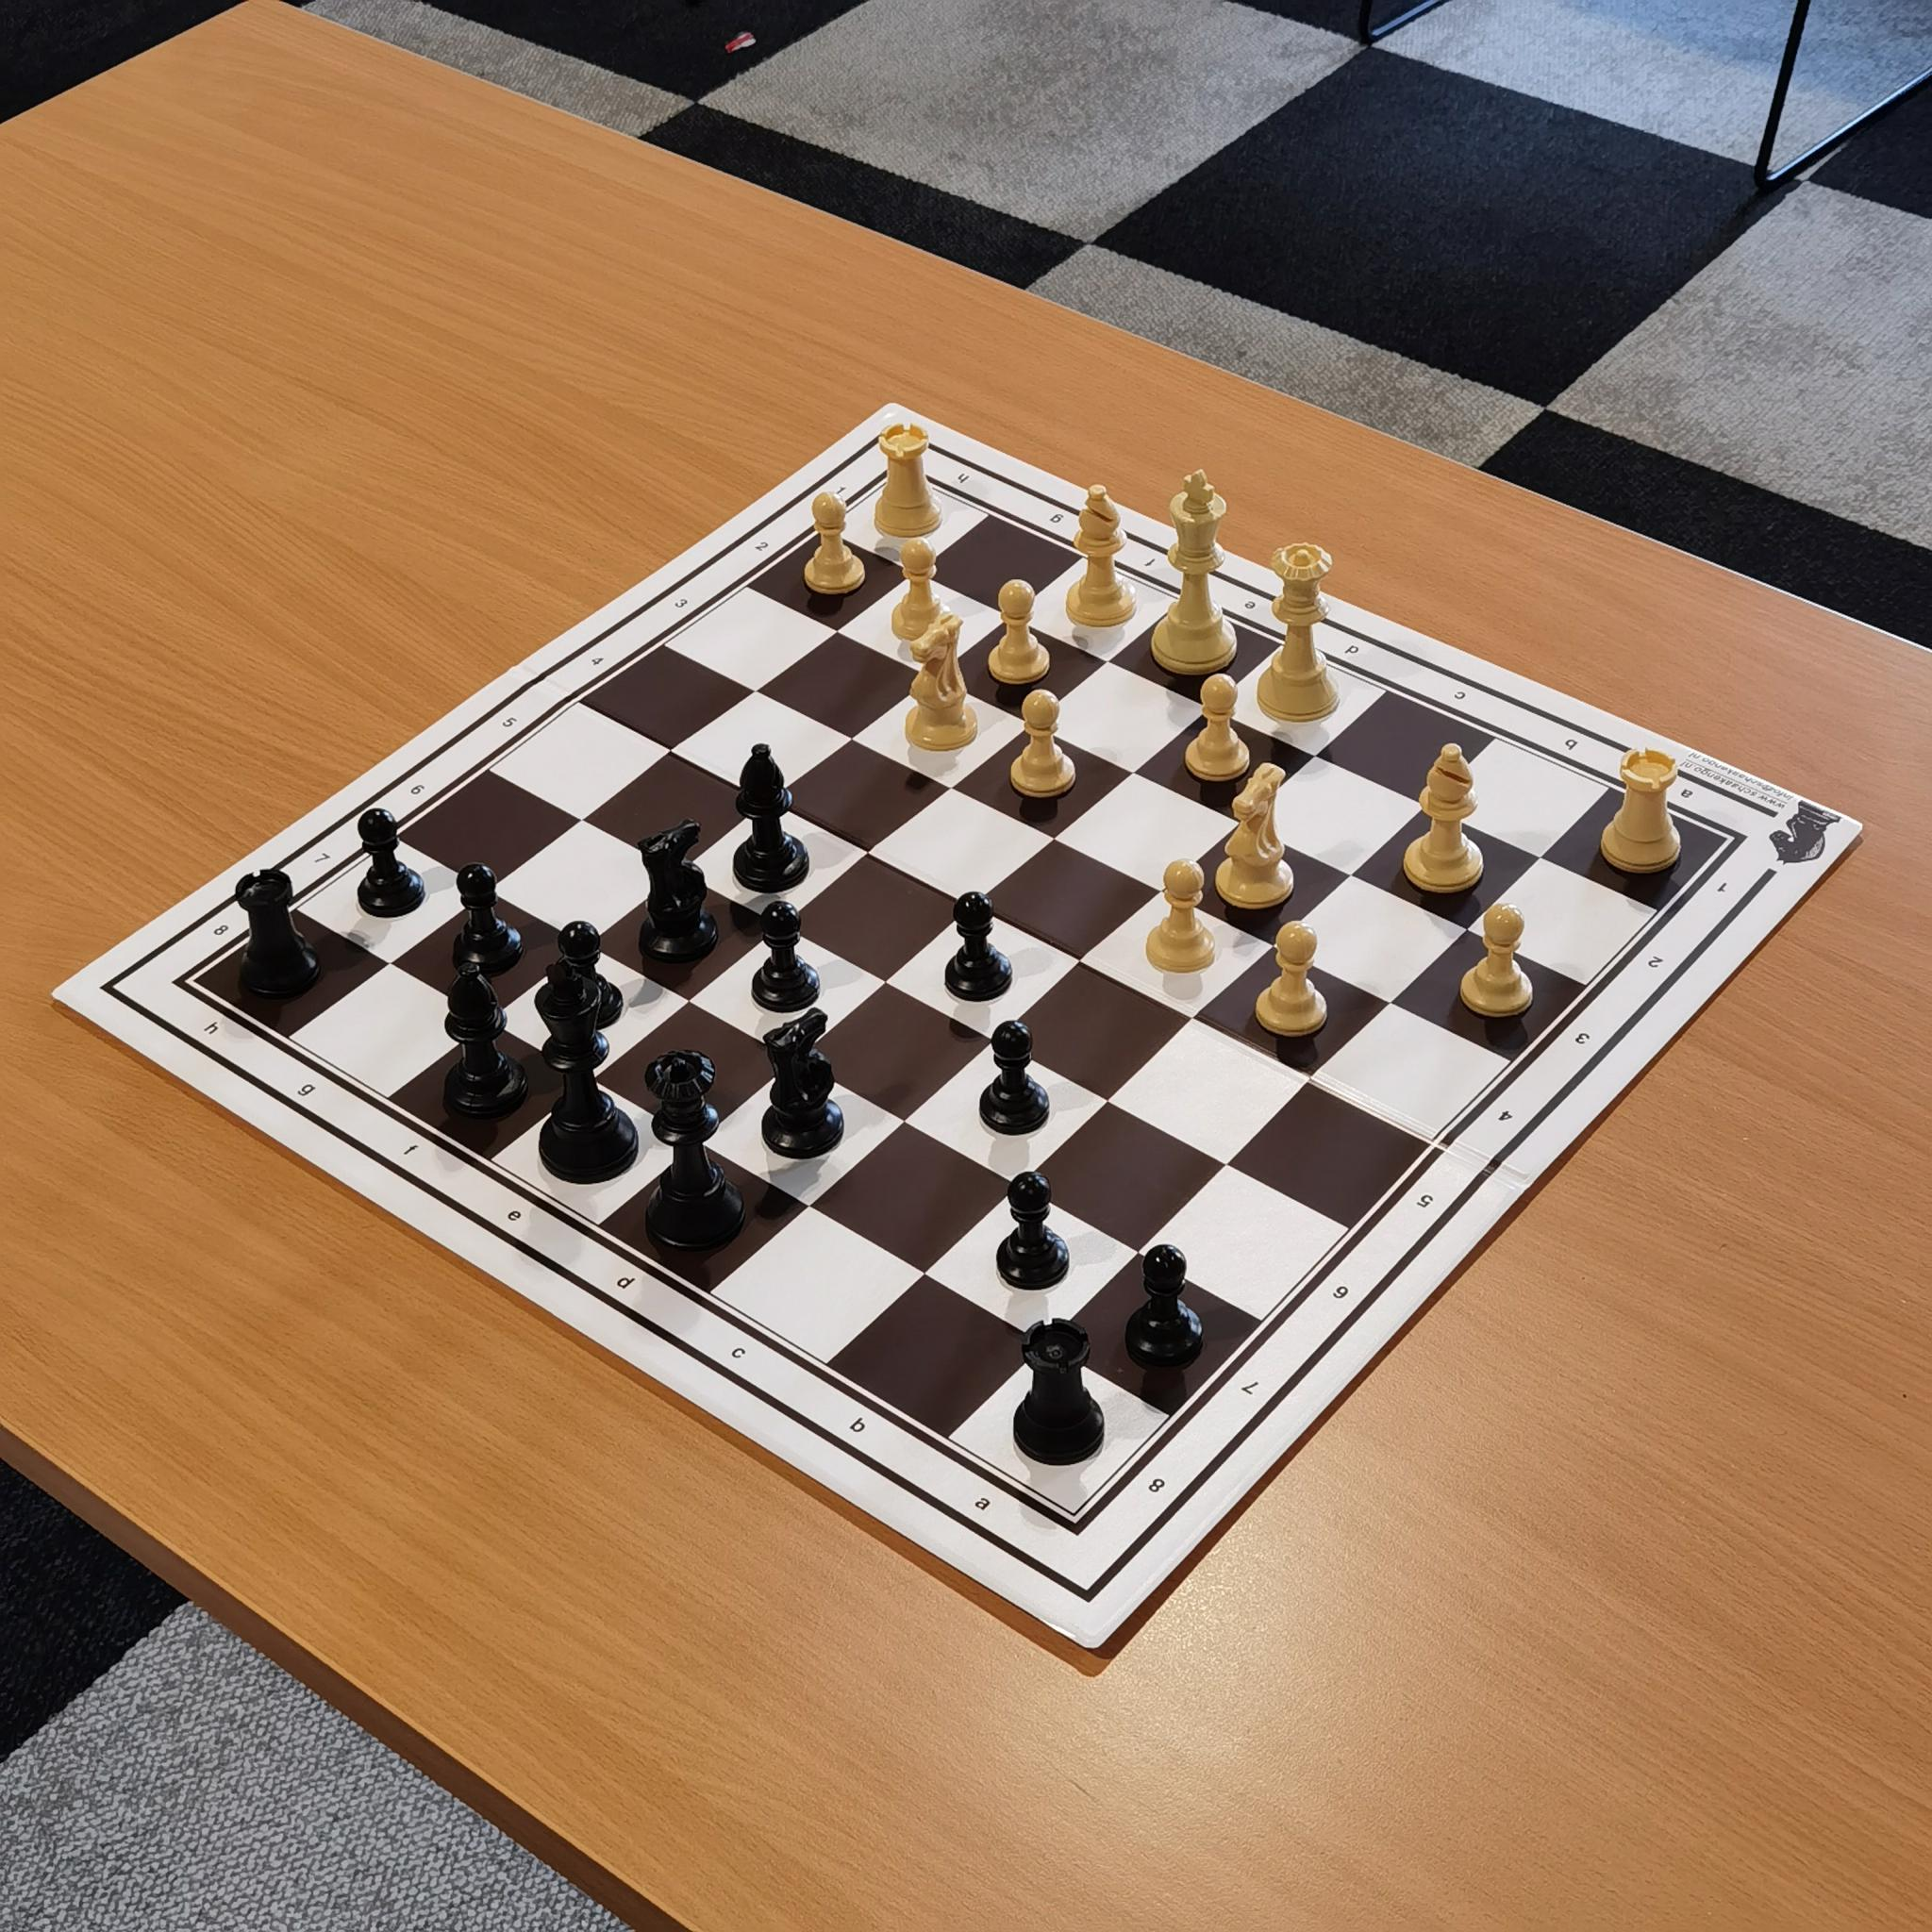corners: (1051, 1497, 1104, 1552), (872, 444, 929, 495), (161, 962, 223, 1005), (1704, 824, 1762, 865)
eight: (1132, 1458, 1182, 1516), (203, 899, 248, 948)
one: (1702, 863, 1746, 911), (821, 474, 863, 508)
